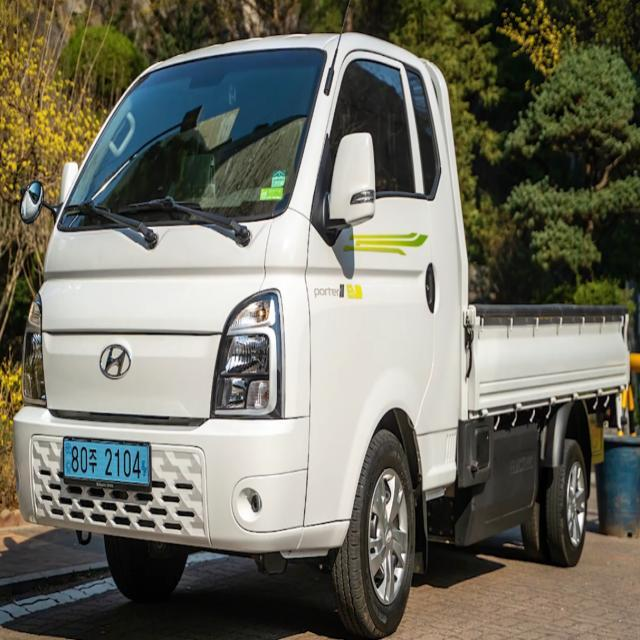car: (55, 431, 164, 499)
carev: (139, 439, 153, 492), (61, 437, 73, 485)
